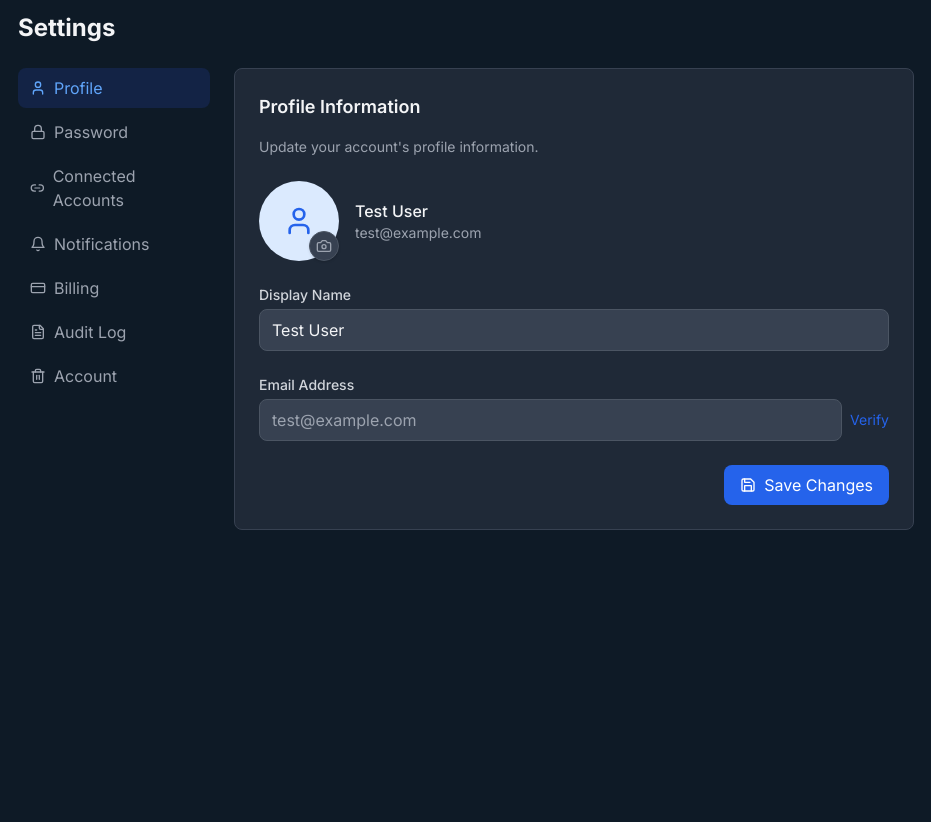
Test: SettingsPage › Notification Preferences › loads preferences from API and populates UI correctly
Note: Navigate to notifications section
Click the button "Notifications": (114, 244) [18,224,210,264]
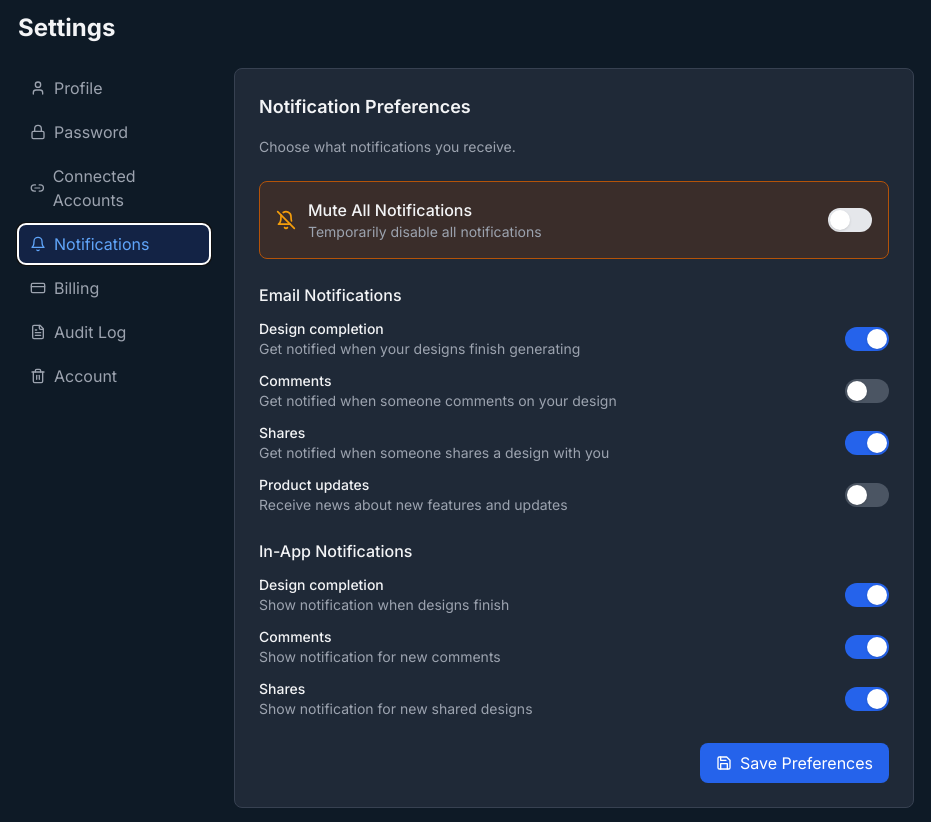
Expected: the heading "Email Notifications" is shown, [259,285,402,305]
Expected: the heading "In-App Notifications" is shown, [259,541,412,561]
